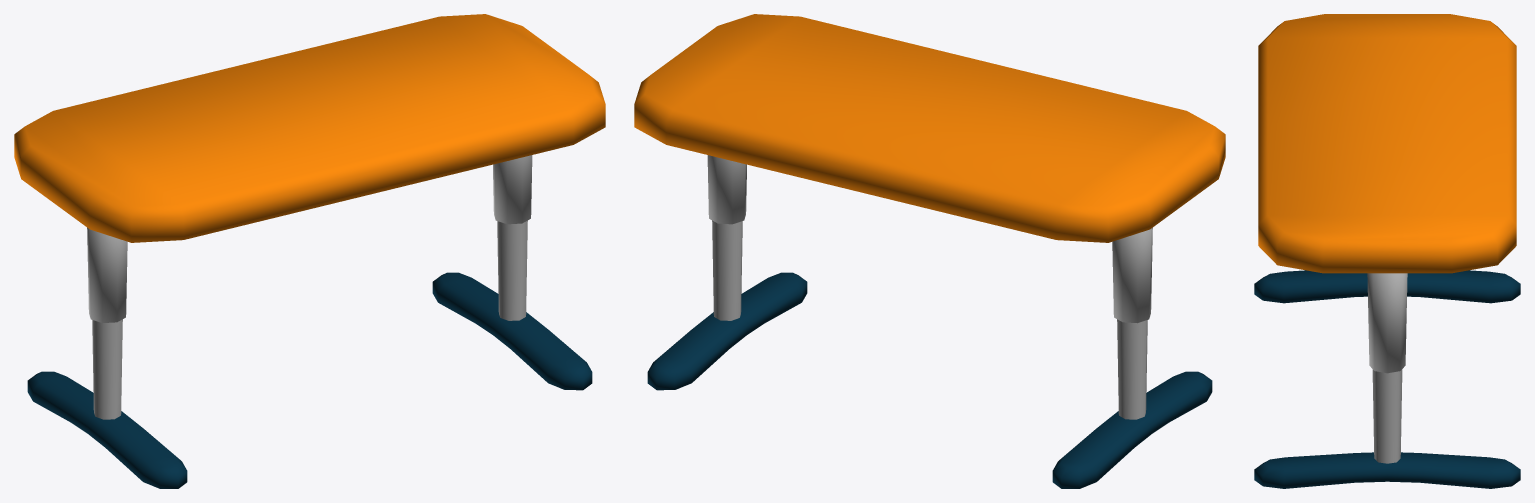
The model's file is Little_Table.FBX.
3 views of the same model, side by side, from view 1: azimuth 30°, elevation 25°; view 2: azimuth 150°, elevation 25°; view 3: azimuth 270°, elevation 25° (orthographic). The views are drawn at different scales.
Visible parts, largest first — view 1: Little_Table; view 2: Little_Table; view 3: Little_Table.
Part boxes in pixels (left/top/right/bottom): Little_Table: left=14, top=14, right=605, bottom=488; Little_Table: left=634, top=14, right=1225, bottom=488; Little_Table: left=1254, top=14, right=1520, bottom=488.
Bounding box in the file's own units: 1.69 × 0.8818 × 0.817.
